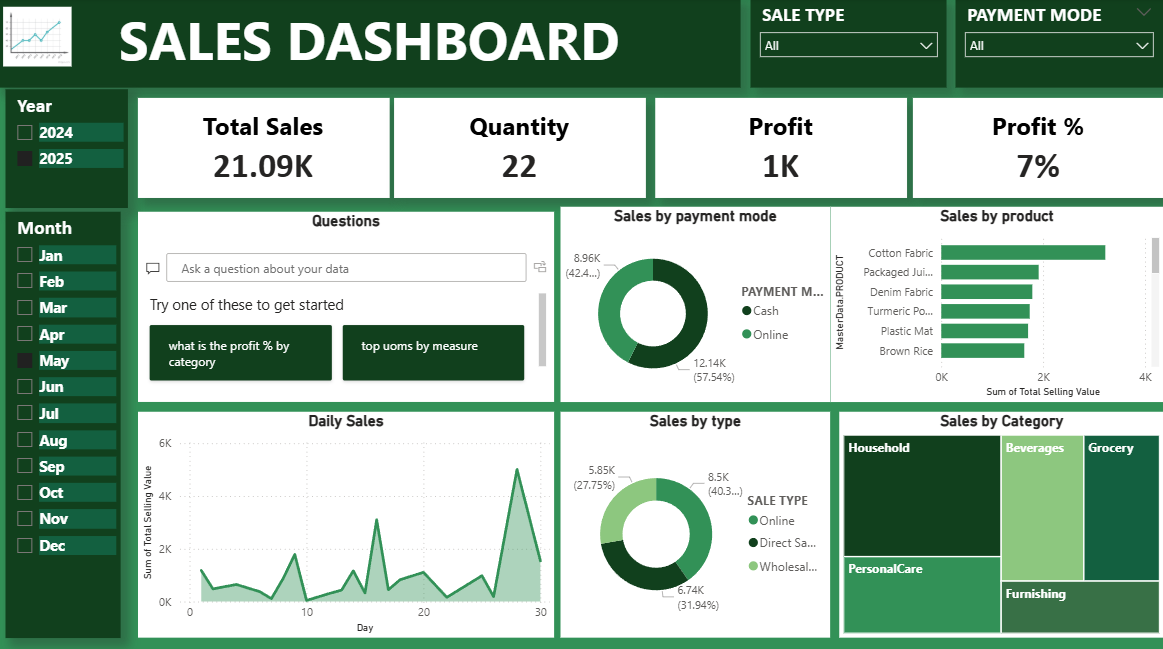

What the dashboard file says about the page in this screenshot:
{"tool":"powerbi","page":{"name":"Page 1","canvas":[1280,720],"ordinal":0},"visuals":[{"type":"textbox","box":[0,0,815.1,98.8],"z":0},{"type":"image","box":[0,9.6,86.4,65.9],"z":1000},{"type":"slicer","fields":{"Values":["InputData.Year"]},"box":[8.2,100.2,134.5,130.4],"z":2000},{"type":"slicer","fields":{"Values":["InputData.Month Name"]},"box":[8.2,234.6,126.2,467.9],"z":3000},{"type":"slicer","fields":{"Values":["InputData.SALE TYPE"]},"box":[826.1,0,215.4,98.8],"z":4000},{"type":"slicer","fields":{"Values":["InputData.PAYMENT MODE"]},"box":[1051.1,0,227.8,98.8],"z":5000},{"type":"cardVisual","fields":{"Data":["Sum(InputData.Total Selling Value)"]},"box":[153.7,109.8,275.8,109.8],"z":6000},{"type":"cardVisual","fields":{"Data":["Sum(InputData.QUANTITY)"]},"box":[435,109.8,275.8,109.8],"z":7000},{"type":"cardVisual","fields":{"Data":["InputData.Profit"]},"box":[721.8,109.8,275.8,109.8],"z":8000},{"type":"cardVisual","fields":{"Data":["InputData.Profit %"]},"box":[1004.5,109.8,275.8,109.8],"z":9000},{"type":"areaChart","title":" Daily Sales","fields":{"Category":["InputData.Day"],"Y":["Sum(InputData.Total Selling Value)"]},"box":[153.7,454.2,456.9,248.4],"z":10000},{"type":"clusteredBarChart","title":"Sales by product","fields":{"Y":["Sum(InputData.Total Selling Value)"],"Category":["InputData.MasterData.PRODUCT"]},"box":[914.5,229,365.5,214.8],"z":11000},{"type":"treemap","title":"Sales by Category","fields":{"Values":["Sum(InputData.Total Selling Value)"],"Group":["InputData.MasterData.CATEGORY"]},"box":[923.5,454.2,356.8,248.4],"z":12000},{"type":"donutChart","title":"Sales by type","fields":{"Y":["Sum(InputData.Total Selling Value)"],"Category":["InputData.SALE TYPE"]},"box":[617.5,454.2,296.4,248.4],"z":13000},{"type":"donutChart","title":"Sales by payment mode","fields":{"Y":["Sum(InputData.Total Selling Value)"],"Category":["InputData.PAYMENT MODE"]},"box":[617.5,229.2,296.4,214.1],"z":14000},{"type":"qnaVisual","title":"Questions","box":[153.7,234.6,456.9,208.6],"z":15000}]}

Visuals, with their boxes in screenshot pixels (x1, y1, x2, y2), scaled from the page's 1280x720 canvas onto the 1163x649 screenshot:
textbox: 0, 0, 741, 89
image: 0, 9, 79, 68
slicer - InputData.Year: 7, 90, 130, 208
slicer - InputData.Month Name: 7, 211, 122, 633
slicer - InputData.SALE TYPE: 751, 0, 946, 89
slicer - InputData.PAYMENT MODE: 955, 0, 1162, 89
cardVisual - Sum(InputData.Total Selling Value): 140, 99, 390, 198
cardVisual - Sum(InputData.QUANTITY): 395, 99, 646, 198
cardVisual - InputData.Profit: 656, 99, 906, 198
cardVisual - InputData.Profit %: 913, 99, 1162, 198
" Daily Sales" areaChart: 140, 409, 555, 633
"Sales by product" clusteredBarChart: 831, 206, 1162, 400
"Sales by Category" treemap: 839, 409, 1162, 633
"Sales by type" donutChart: 561, 409, 830, 633
"Sales by payment mode" donutChart: 561, 207, 830, 400
"Questions" qnaVisual: 140, 211, 555, 399
